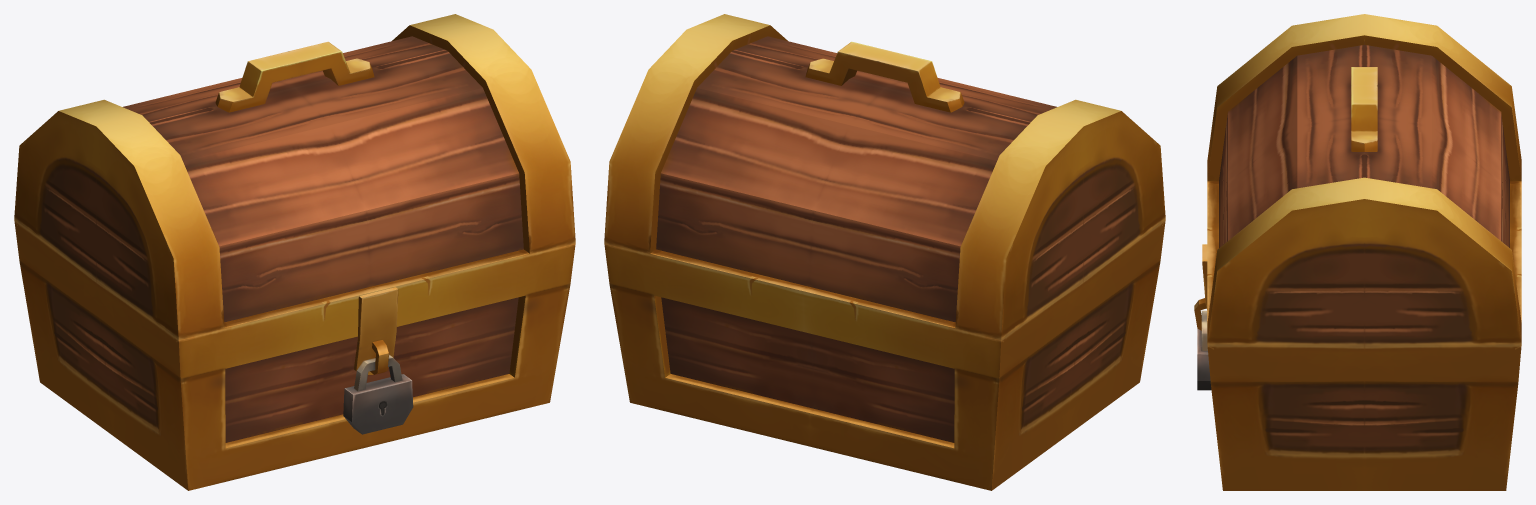
The model's file is treasure chest.FBX.
The picture shows the model from 3 angles, left to right: view 1: azimuth 30°, elevation 25°; view 2: azimuth 150°, elevation 25°; view 3: azimuth 270°, elevation 25°; orthographic projection. The views are drawn at different scales.
Parts seen in each view (by area): view 1: treasure chest; view 2: treasure chest; view 3: treasure chest.
Part boxes in pixels (x1,y1,x2,y2): treasure chest: [14, 14, 575, 490]; treasure chest: [604, 14, 1165, 490]; treasure chest: [1194, 14, 1521, 490].
Bounding box in the file's own units: 44.92 × 36.34 × 33.59.
